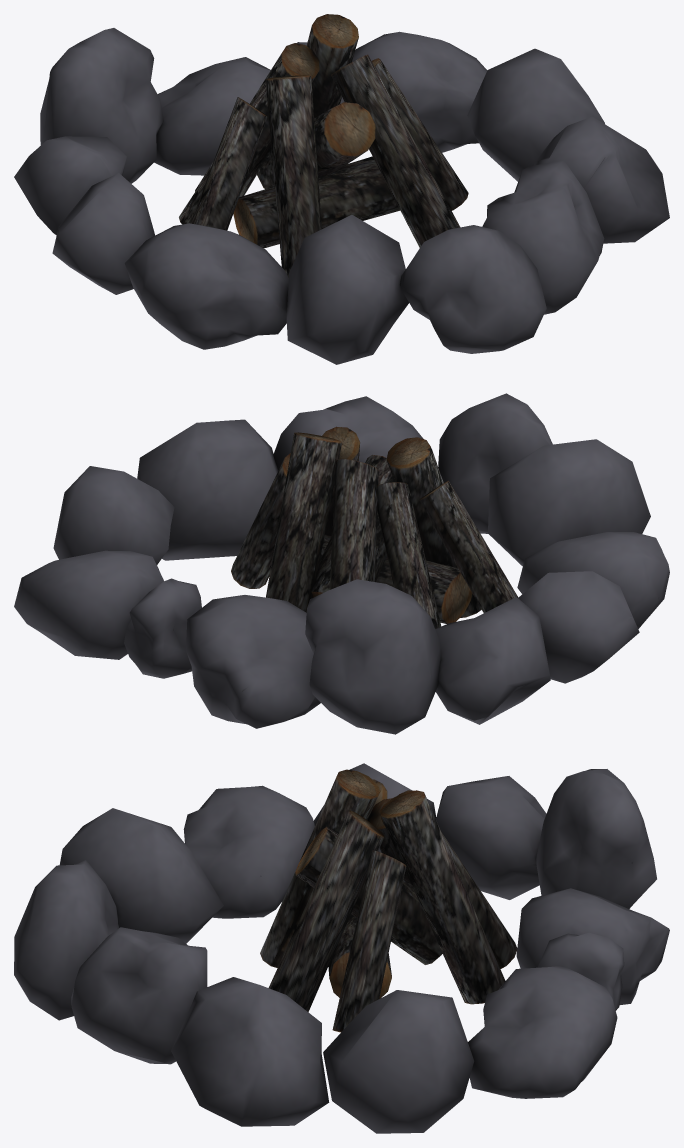
File: Campfire_Default.obj
The picture shows the model from 3 angles, top to bottom: view 1: azimuth 30°, elevation 25°; view 2: azimuth 150°, elevation 25°; view 3: azimuth 270°, elevation 25°; orthographic projection. The views are drawn at different scales.
Parts seen in each view (by area): view 1: Cylinder.014_Material.065; view 2: Cylinder.014_Material.065; view 3: Cylinder.014_Material.065.
Boxes of the visible parts, box(x1,y1,x2,y2) form: Cylinder.014_Material.065: box(14, 14, 669, 364); Cylinder.014_Material.065: box(14, 393, 669, 734); Cylinder.014_Material.065: box(14, 763, 669, 1133).
Bounding box in the file's own units: 1.54 × 0.5898 × 1.53.
